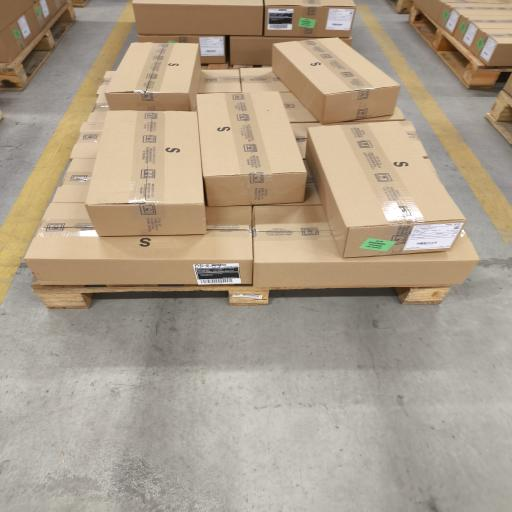pallet: (410, 5, 511, 89), (32, 278, 304, 308), (486, 91, 511, 144)
